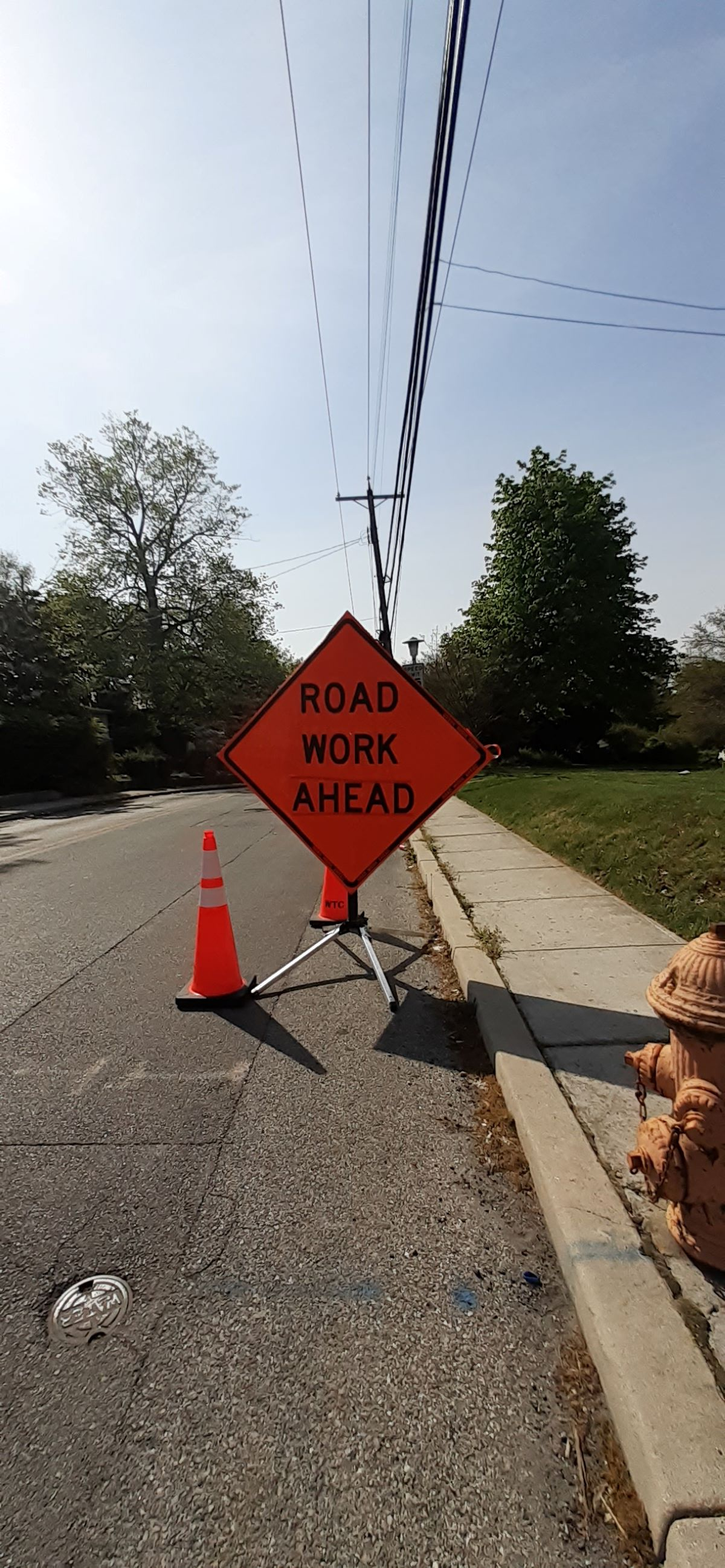Road_cone: (169, 830, 264, 1010)
Road_workahead: (216, 610, 504, 889)
Tree: (34, 411, 222, 766), (433, 461, 655, 760)
